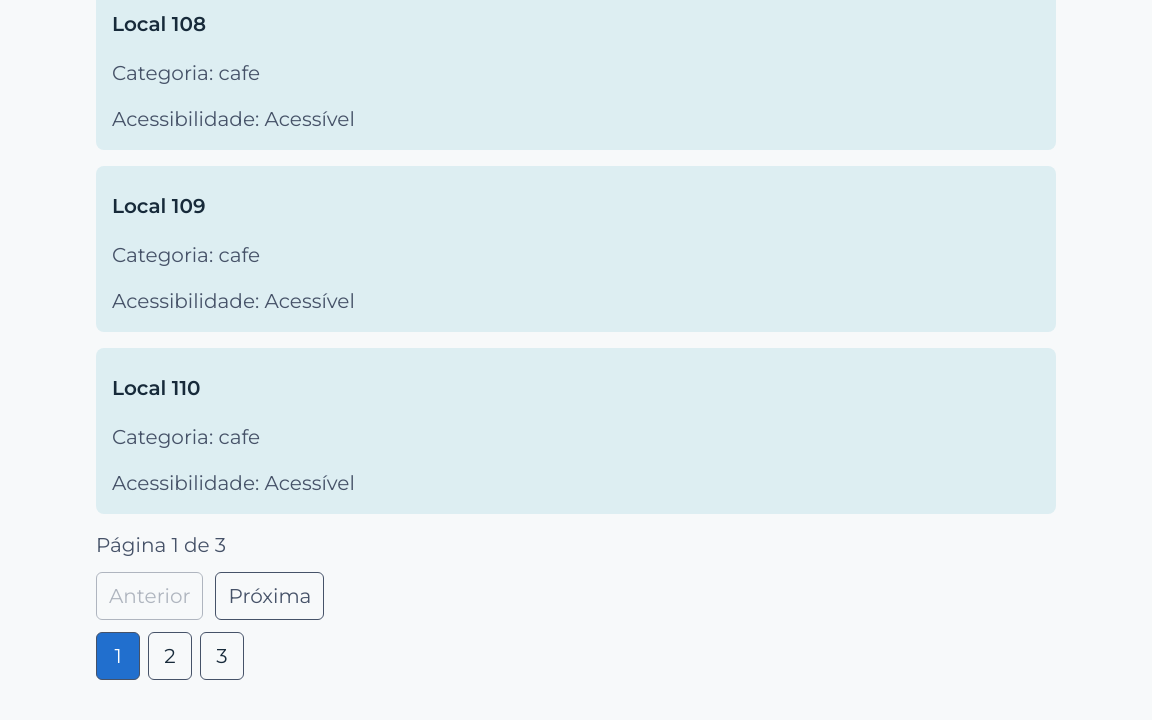
Scenario: Integração da paginação de locais › mostra o estado vazio e recupera a paginação ao limpar os critérios
The width and height of the screenshot is (1152, 720).
(page scrolled)
Click the button "3": x=222, y=656 [200,632,244,680]
(page scrolled)
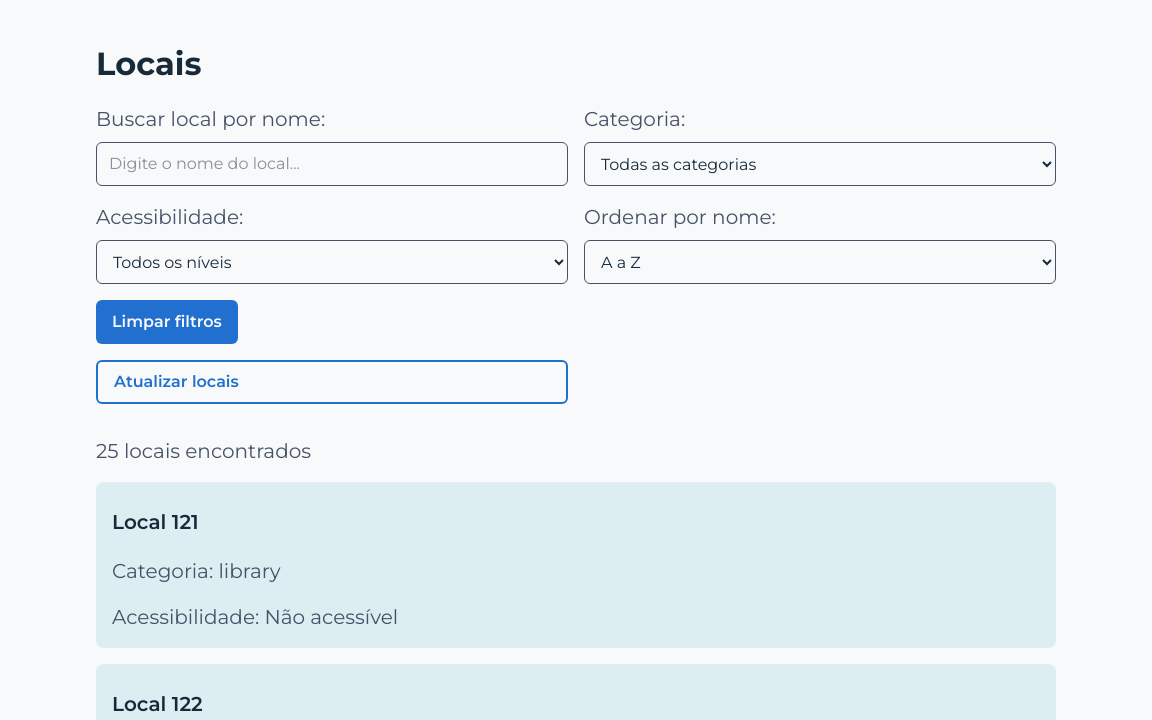
In the field labelled "Buscar local por nome:": x=332, y=164 [96,142,568,186], type "Inexistente"
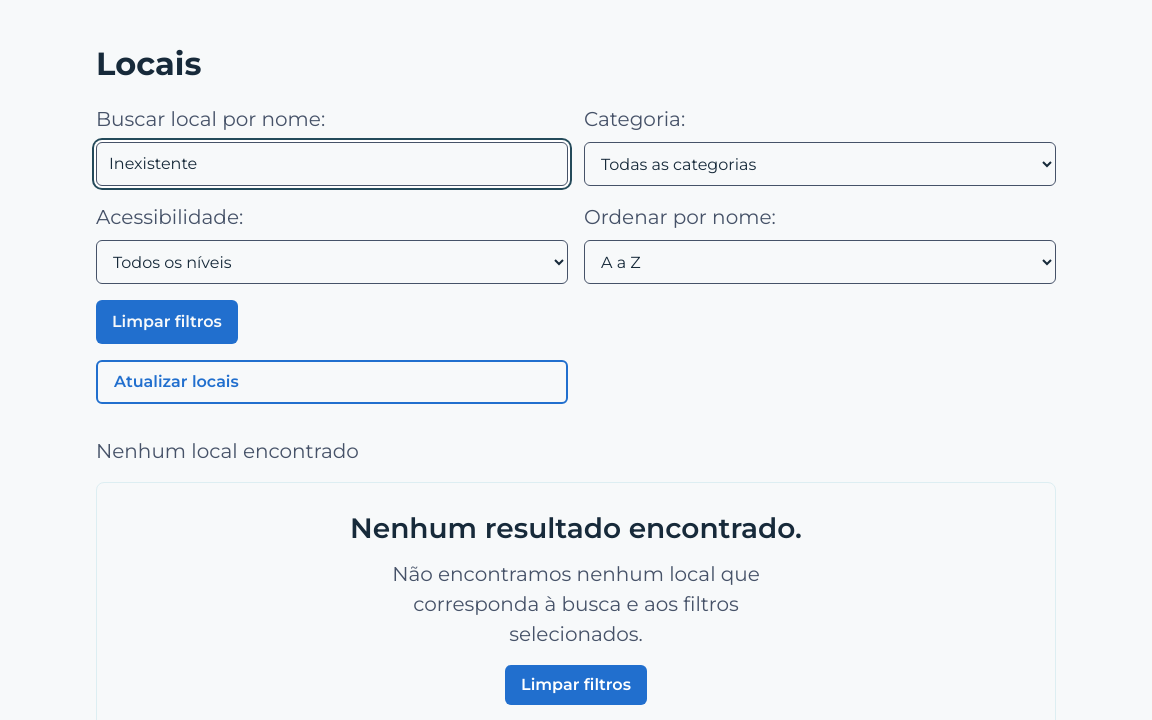
expect the heading "Nenhum resultado encontrado." is shown: met, box [350,507,802,550]
Click the button "Limpar filtros" below "Acessibilidade:": x=167, y=322 [96,300,238,344]
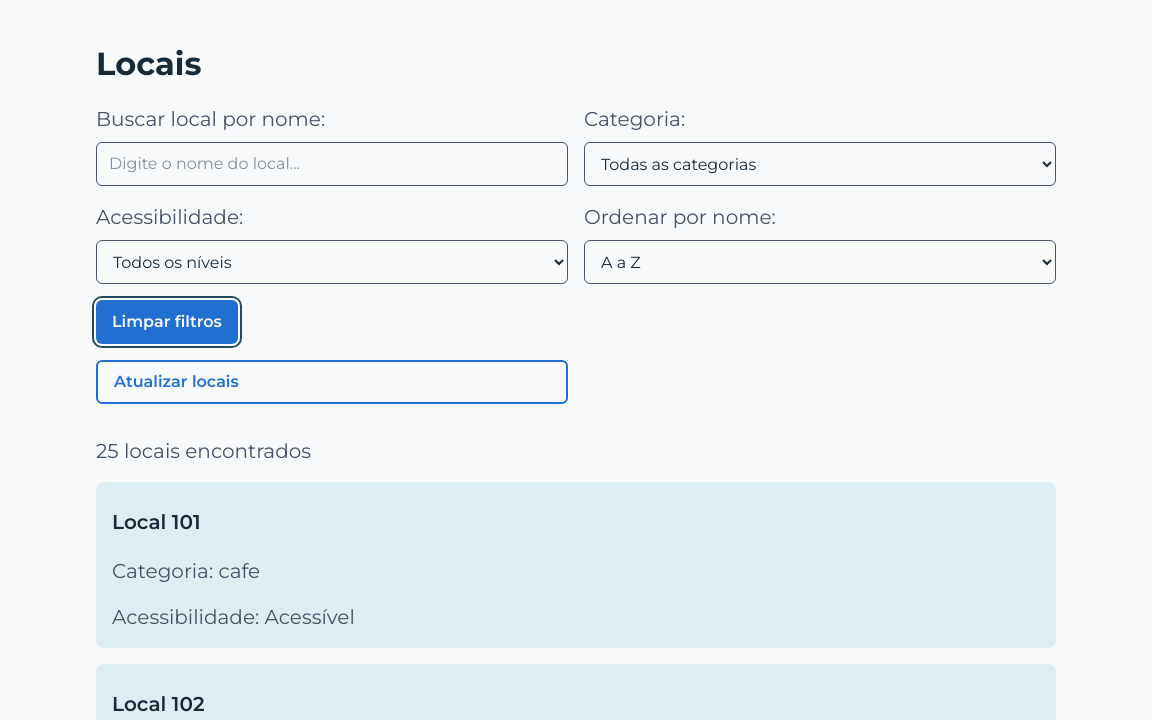
expect the field labelled "Buscar local por nome:" is empty: met, box [96,142,568,186]
expect the number of links is 10: met
expect the message reads "25 locais encontrados": met, box [96,439,311,463]
